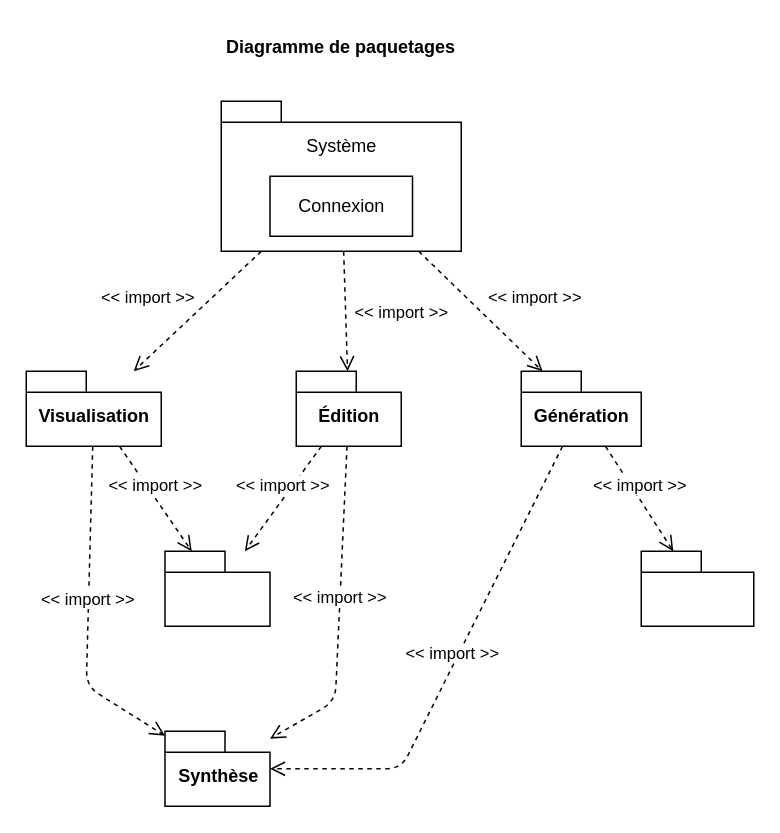
The diagram is 780 pixels wide and 833 high, and some of its shapes have lost their labels. Here are the shapes that lost their labels. From the top down, the centre of each, then its label:
At pixel 217 588: "Rapport".
At pixel 697 588: "Facturation".
